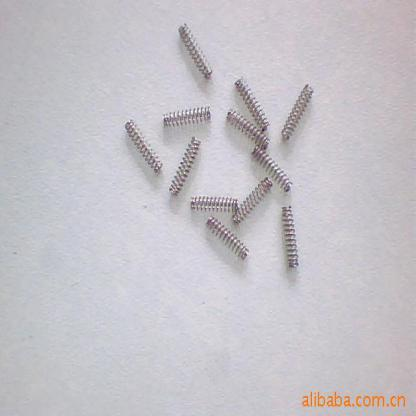FOD: (123, 116, 165, 175), (176, 19, 215, 82), (166, 133, 202, 199), (205, 213, 251, 264), (233, 74, 271, 134), (231, 173, 274, 225), (279, 81, 316, 141), (251, 143, 294, 192), (224, 107, 270, 152), (280, 202, 300, 272), (161, 104, 213, 128), (188, 193, 240, 213)
